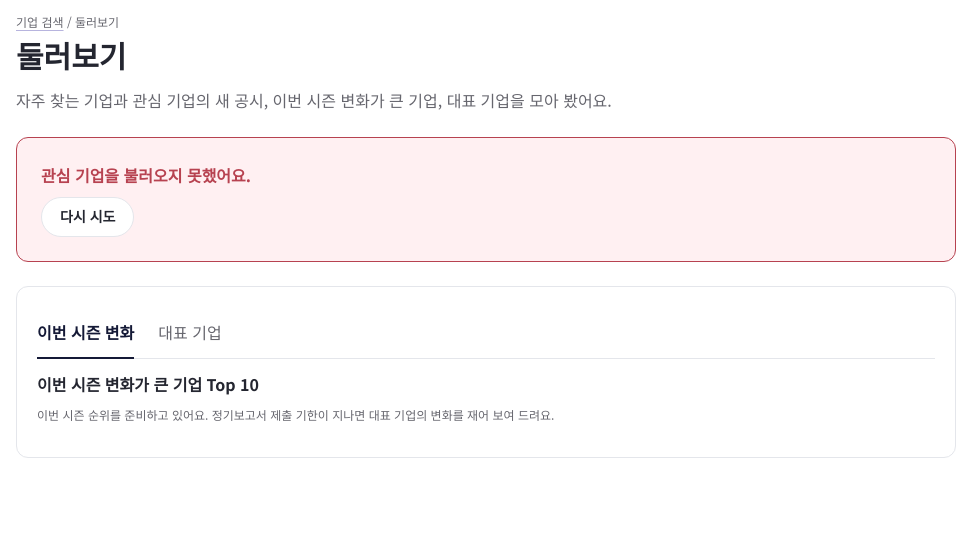
관심 기업(#36) › 목록을 받지 못하면 빈 목록처럼 숨기지 않고 안내하며, 다시 시도하면 목록을 보인다
Check: the message shows "관심 기업을 불러오지 못했어요", box [41,163,251,187]
Click the button "다시 시도" at (88, 217), box [41,197,134,237]
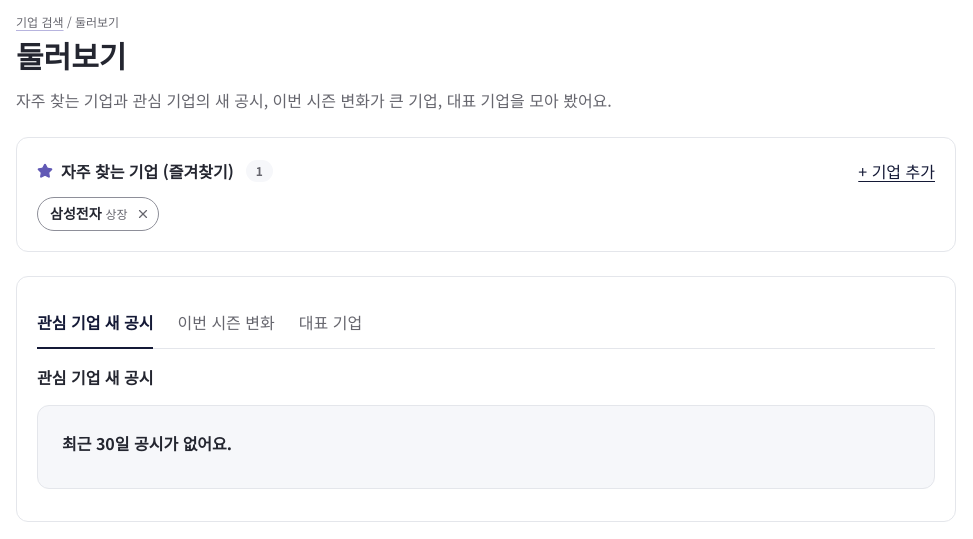
Check: the link "삼성전자 상장" is shown, box [50,203,128,223]
